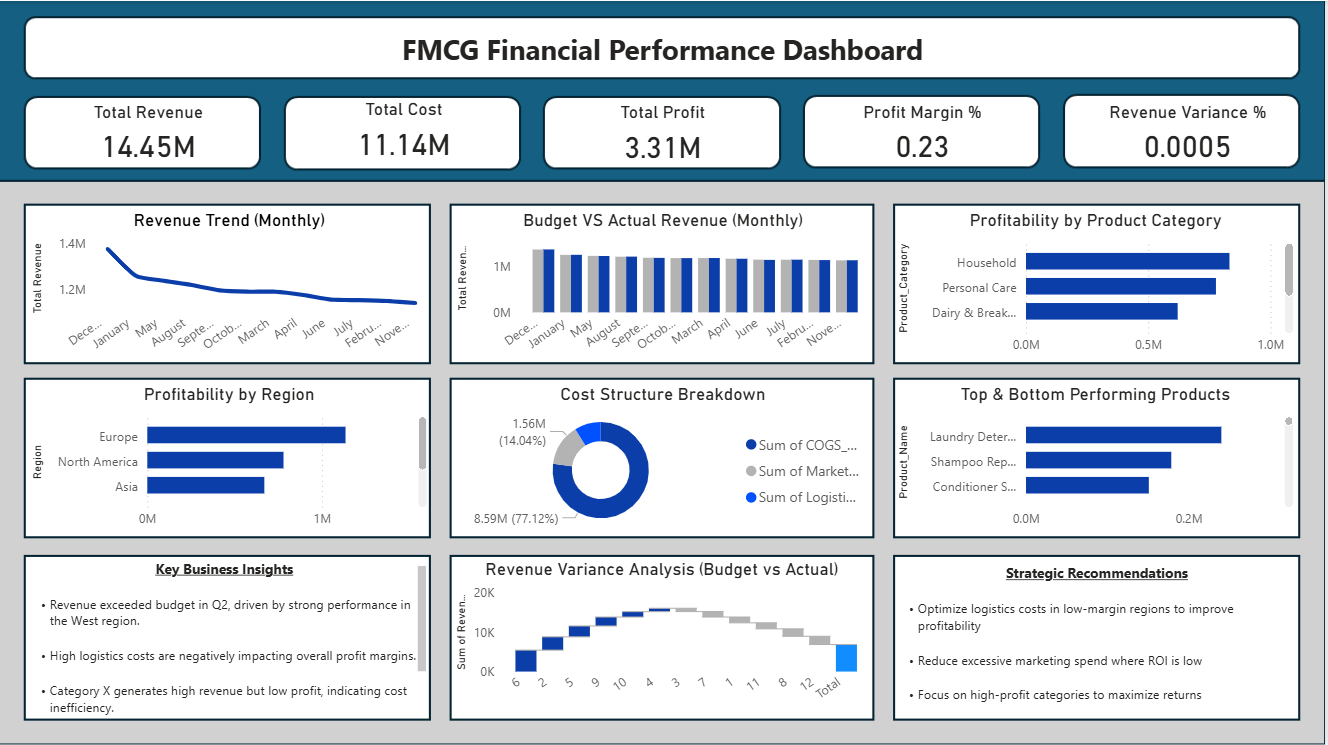

What the dashboard file says about the page in this screenshot:
{"tool":"powerbi","page":{"name":"Page 1","canvas":[1280,720],"ordinal":0},"visuals":[{"type":"card","title":"Total Revenue","fields":{"Values":["fmcg_data_profitability.Total Revenue"]},"box":[74.4,96.7,138.9,64.4],"z":0},{"type":"card","title":"Total Cost","fields":{"Values":["fmcg_data_profitability.Total Cost"]},"box":[335.6,94.4,111.1,66.7],"z":1},{"type":"card","title":"Total Profit","fields":{"Values":["fmcg_data_profitability.Total Profit"]},"box":[594.4,96.7,92.2,66.7],"z":2},{"type":"card","title":"Profit Margin %","fields":{"Values":["fmcg_data_profitability.Profit Margin %"]},"box":[827.8,96.7,127.8,64.4],"z":3},{"type":"card","title":"Revenue Variance %","fields":{"Values":["fmcg_data_profitability.Revenue Variance %"]},"box":[1058.9,96.7,176.7,64.4],"z":4},{"type":"lineChart","title":"Revenue Trend (Monthly)","fields":{"Category":["fmcg_data_profitability.Month_Name"],"Y":["fmcg_data_profitability.Total Revenue"]},"box":[26.5,201.8,391.2,148.2],"z":5},{"type":"clusteredColumnChart","title":"Budget VS Actual Revenue (Monthly)","fields":{"Category":["fmcg_data_profitability.Month_Name"],"Y":["fmcg_data_profitability.Total Revenue","fmcg_data_profitability.Budget Revenue"]},"box":[436.5,201.8,408.2,148.2],"z":6},{"type":"barChart","title":"Profitability by Product Category","fields":{"Category":["fmcg_data_profitability.Product_Category"],"Y":["fmcg_data_profitability.Total Profit"]},"box":[862.9,201.8,391.8,148.2],"z":7},{"type":"clusteredBarChart","title":"Profitability by Region","fields":{"Y":["fmcg_data_profitability.Total Profit"],"Category":["fmcg_data_profitability.Region"]},"box":[26.2,369.2,391.5,148.5],"z":8},{"type":"donutChart","title":"Cost Structure Breakdown","fields":{"Y":["Sum(fmcg_data_profitability.COGS_USD)","Sum(fmcg_data_profitability.Marketing_Spend_USD)","Sum(fmcg_data_profitability.Logistics_Cost_USD)"]},"box":[436.2,369.2,408.5,148.5],"z":9},{"type":"barChart","title":"Top & Bottom Performing Products","fields":{"Y":["fmcg_data_profitability.Total Profit"],"Category":["fmcg_data_profitability.Product_Name"]},"box":[863.1,369.2,391.5,148.5],"z":10},{"type":"textbox","box":[26.7,538.3,390.8,158.3],"z":11},{"type":"waterfallChart","title":"Revenue Variance Analysis (Budget vs Actual)","fields":{"Category":["fmcg_data_profitability.Month"],"Y":["Sum(fmcg_data_profitability.Revenue_Variance)"]},"box":[435.8,538.3,408.3,158.3],"z":12},{"type":"textbox","box":[863.3,538.3,391.7,158.3],"z":13},{"type":"textbox","box":[26.7,23.3,1227.8,51.1],"z":14}]}

Visuals, with their boxes in screenshot pixels (x1, y1, x2, y2), scaled from the page's 1280x720 canvas onto the 1328x745 screenshot:
"Total Revenue" card: (left=77, top=100, right=221, bottom=167)
"Total Cost" card: (left=348, top=98, right=463, bottom=167)
"Total Profit" card: (left=617, top=100, right=712, bottom=169)
"Profit Margin %" card: (left=859, top=100, right=991, bottom=167)
"Revenue Variance %" card: (left=1099, top=100, right=1282, bottom=167)
"Revenue Trend (Monthly)" lineChart: (left=27, top=209, right=433, bottom=362)
"Budget VS Actual Revenue (Monthly)" clusteredColumnChart: (left=453, top=209, right=876, bottom=362)
"Profitability by Product Category" barChart: (left=895, top=209, right=1302, bottom=362)
"Profitability by Region" clusteredBarChart: (left=27, top=382, right=433, bottom=536)
"Cost Structure Breakdown" donutChart: (left=453, top=382, right=876, bottom=536)
"Top & Bottom Performing Products" barChart: (left=895, top=382, right=1302, bottom=536)
textbox: (left=28, top=557, right=433, bottom=721)
"Revenue Variance Analysis (Budget vs Actual)" waterfallChart: (left=452, top=557, right=876, bottom=721)
textbox: (left=896, top=557, right=1302, bottom=721)
textbox: (left=28, top=24, right=1302, bottom=77)
